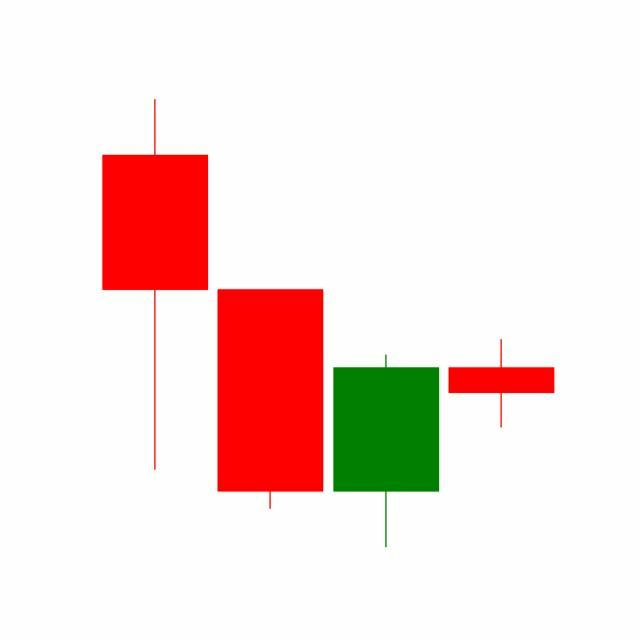Spinning Top: (444, 339, 560, 431)
